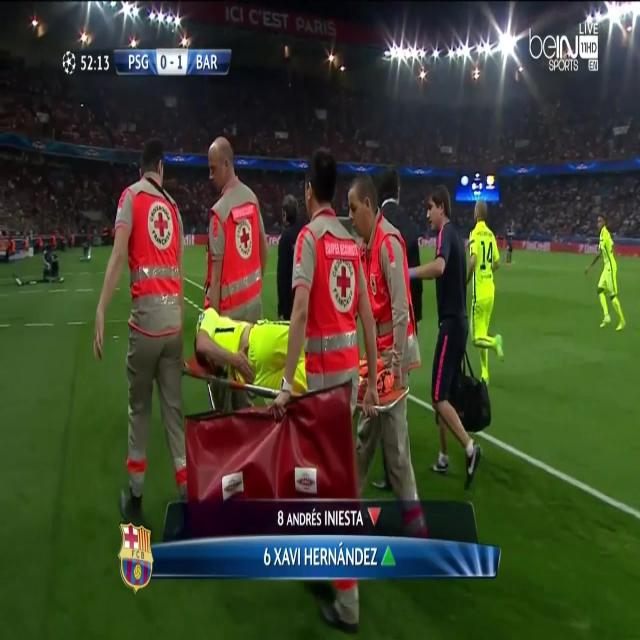Player: (191, 302, 305, 396), (468, 196, 506, 386), (584, 213, 630, 334)
